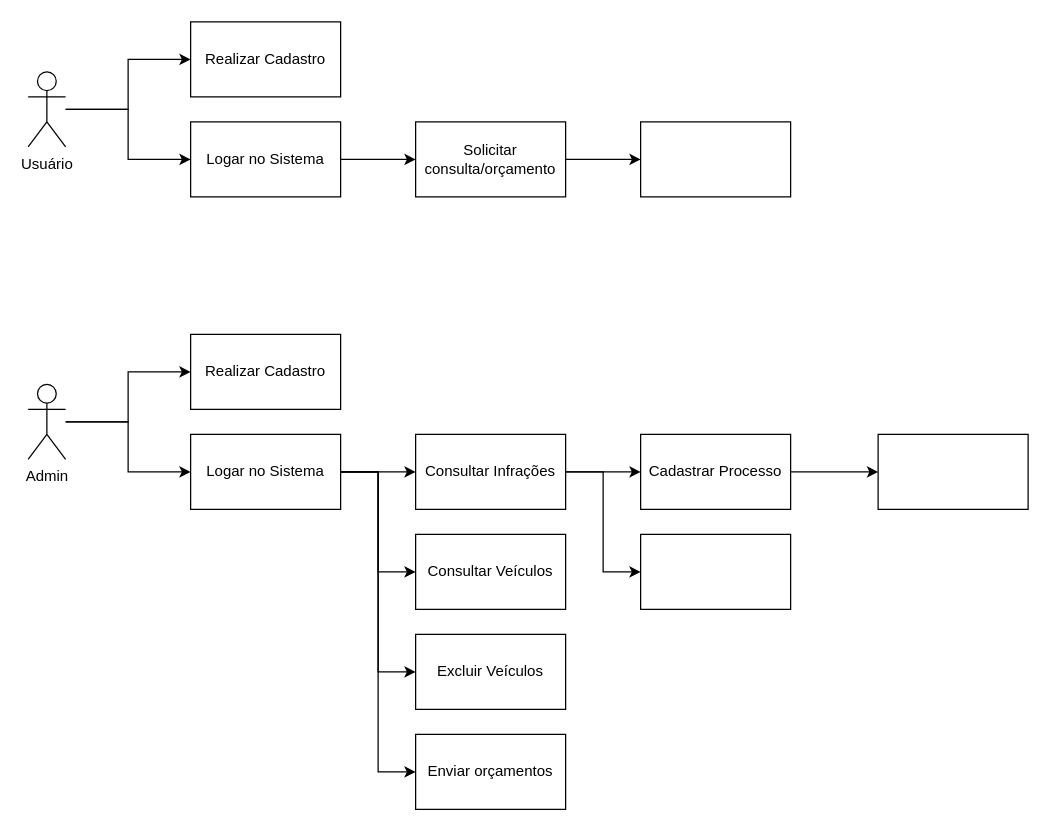
Some shapes in this 1050 by 831 pixel diagram are drawn without their labels. The shapes that lost their labels are listed below. From the top down, each one's box as (x1, y1, x2, y2) in pixels, then its label:
(639, 121, 791, 197): Acompanhar Status do Processo
(877, 433, 1028, 509): Disponibilizar dados para acesso do Cliente
(639, 533, 791, 609): Consultar/Alterar Processo
